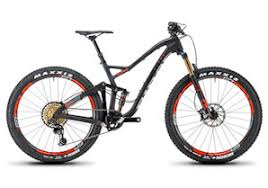bicycle: (2, 17, 266, 170)
